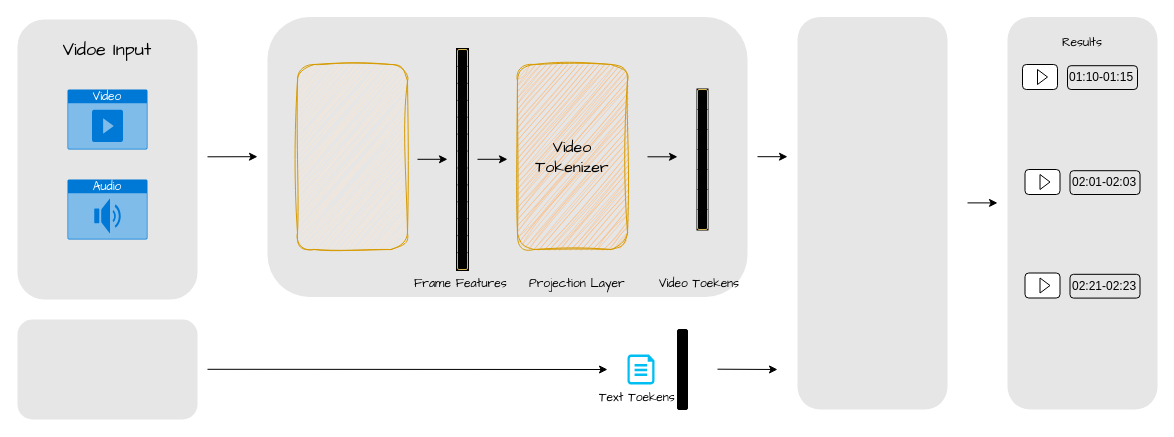
The diagram is 1174 pixels wide and 437 high, and some of its shapes have lost their labels. The centre of each missing label's shape, as x and y in pixels:
Large Language Model: (x=872, y=212)
User Query ”绿色的山地车“: (x=107, y=369)
Video Encoder: (x=352, y=157)
